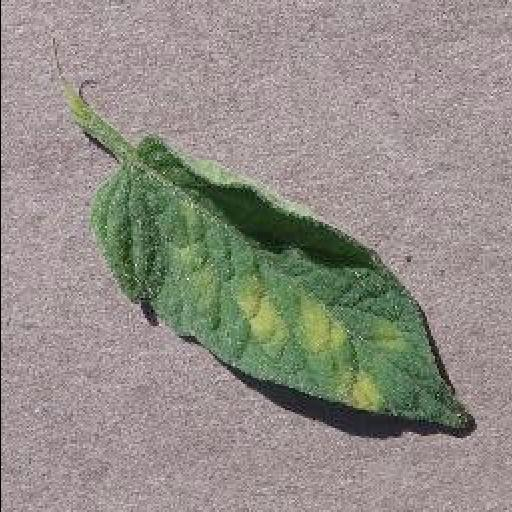disease_tomato: (88, 132, 474, 430)
